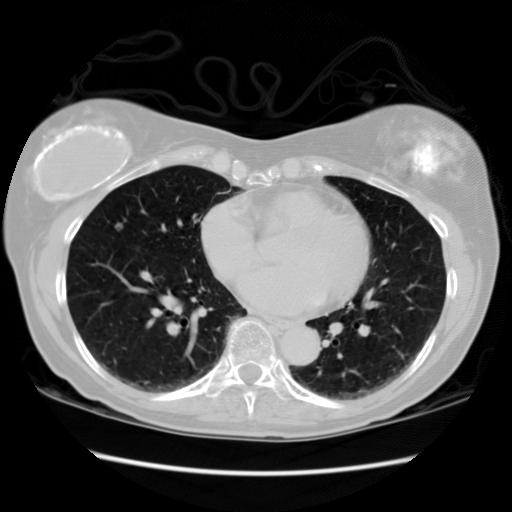nodule: (112, 220, 126, 234)
